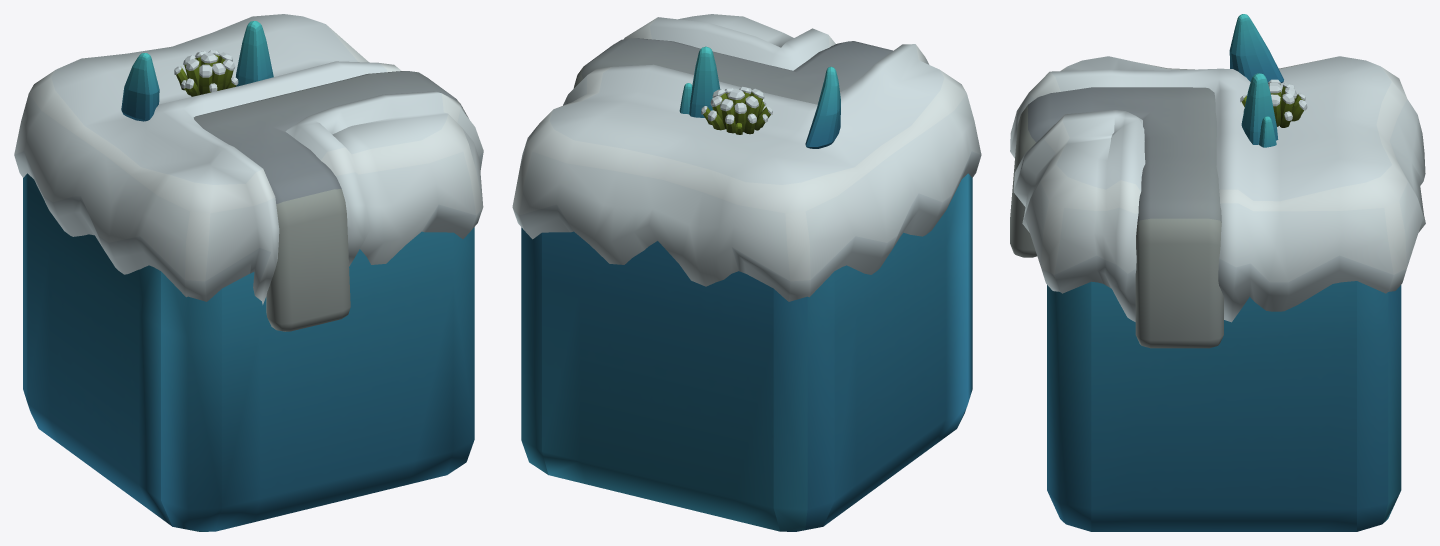
Rendered from Winter10.fbx.
The picture shows the model from 3 angles, left to right: view 1: azimuth 30°, elevation 25°; view 2: azimuth 150°, elevation 25°; view 3: azimuth 270°, elevation 25°; orthographic projection.
Parts seen in each view (by area): view 1: Winter10, Winter_Cube10.003, Road10.002, Winter_Cube_10.001; view 2: Winter10, Winter_Cube10.003, Road10.002, Winter_Cube_10.001; view 3: Winter10, Winter_Cube10.003, Road10.002, Winter_Cube_10.001.
Boxes of the visible parts, x1,y1,x2,y2 form: Winter10: [23, 173, 474, 531]; Winter_Cube10.003: [14, 14, 483, 304]; Road10.002: [193, 71, 458, 331]; Winter_Cube_10.001: [121, 21, 273, 121]; Winter10: [521, 173, 972, 531]; Winter_Cube10.003: [512, 14, 981, 301]; Road10.002: [573, 38, 892, 104]; Winter_Cube_10.001: [679, 46, 840, 148]; Winter10: [1047, 281, 1401, 531]; Winter_Cube10.003: [1010, 56, 1425, 322]; Road10.002: [1010, 87, 1223, 348]; Winter_Cube_10.001: [1229, 14, 1307, 147].
Size of the model in its own units: 116 by 129 by 117.
